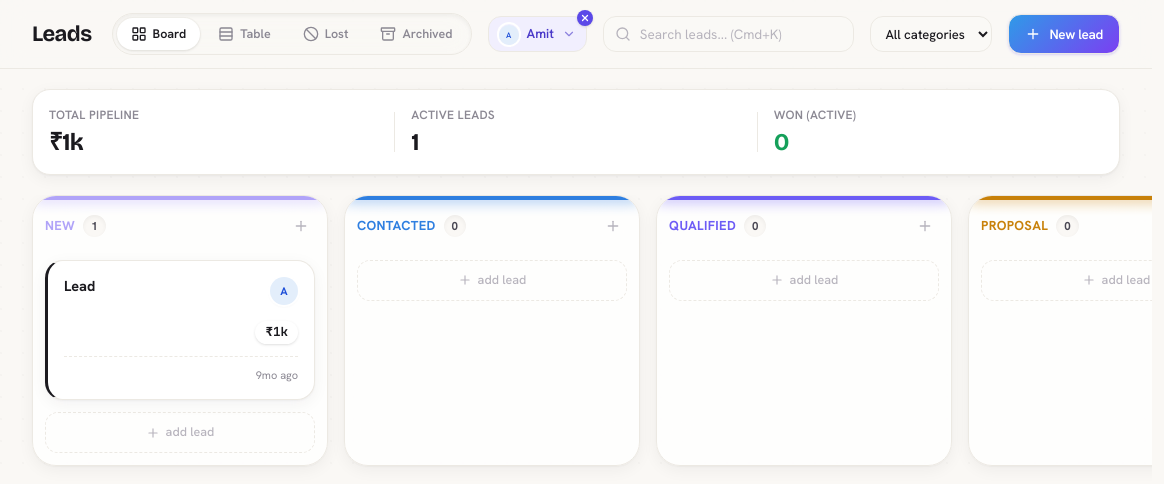
Leads page — filter applies across views › filters the Archived view by owner
Click the button "Archived" at [417, 34], box [366,18,467,50]
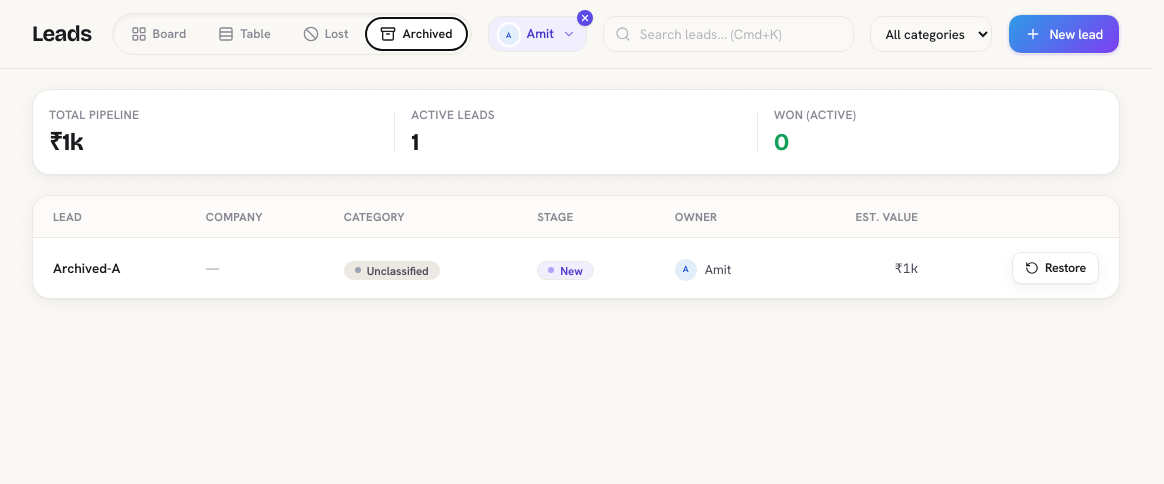
Now the text "Archived-A" is shown, box [33,238,186,298]
